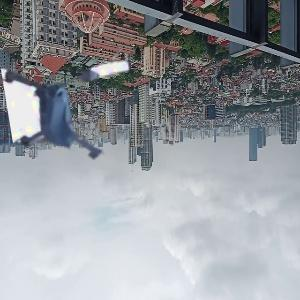drone: (11, 54, 148, 191)
